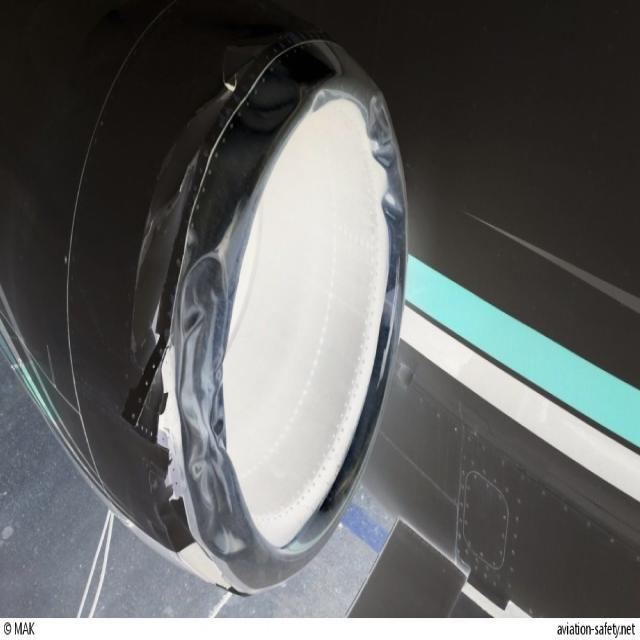dent: (177, 258, 236, 442), (190, 446, 248, 558), (238, 81, 303, 131), (366, 87, 398, 151), (366, 132, 404, 175), (377, 191, 406, 233)
